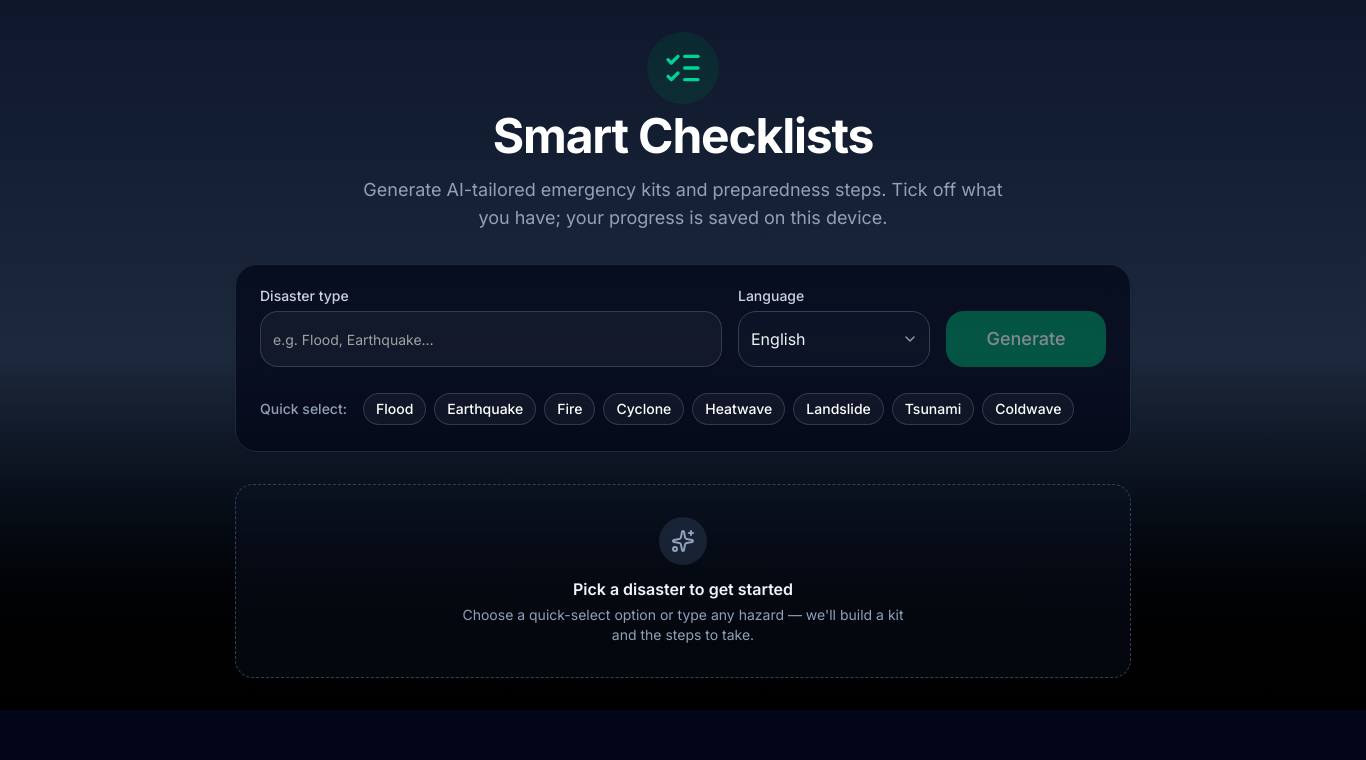
it: ChecklistView › shows an inline error with retry instead of alert()
Click the button "Cyclone": {"x": 644, "y": 409} [604,393,684,425]
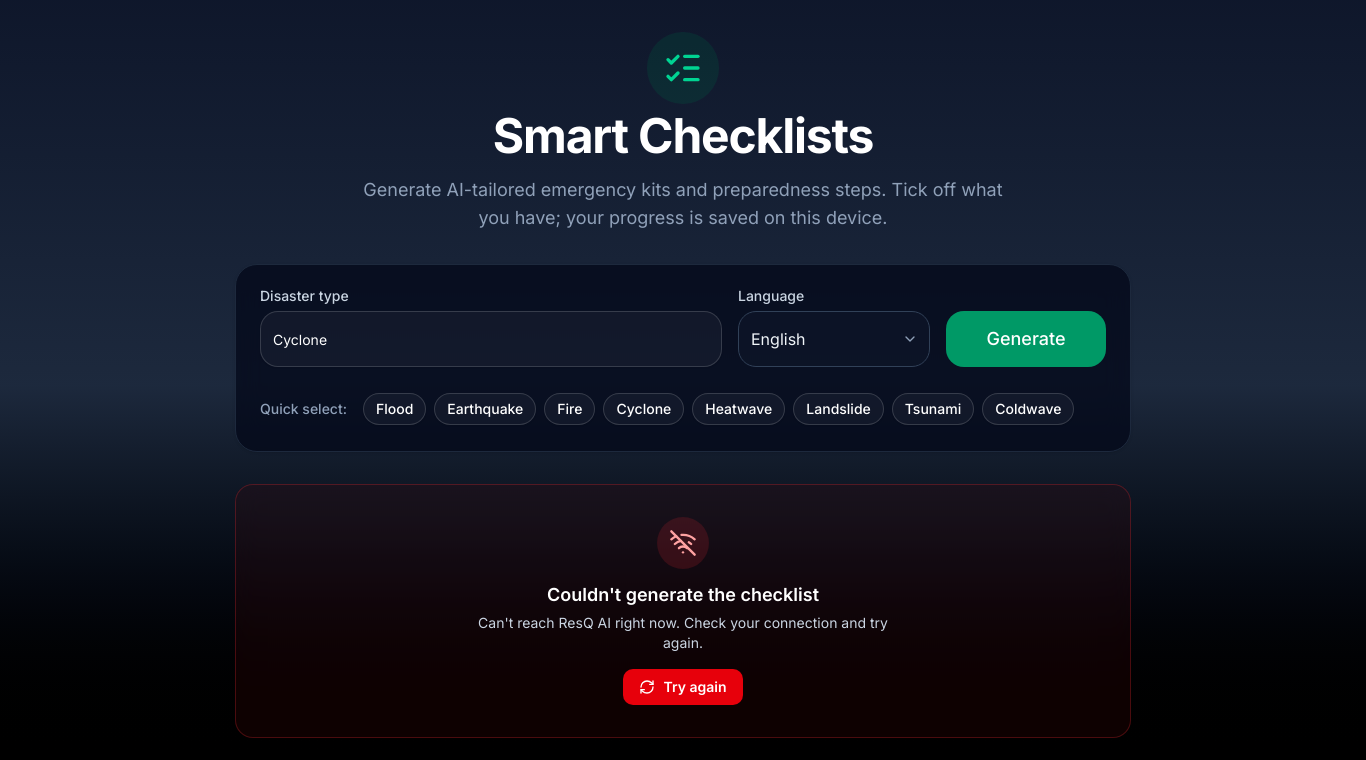
Check: the heading "Couldn't generate the checklist" is shown, box [547,584,819,605]
Check: the message shows "Can't reach ResQ AI", box [478,614,888,651]
Click the button "Try again": {"x": 683, "y": 687} [624,669,743,705]
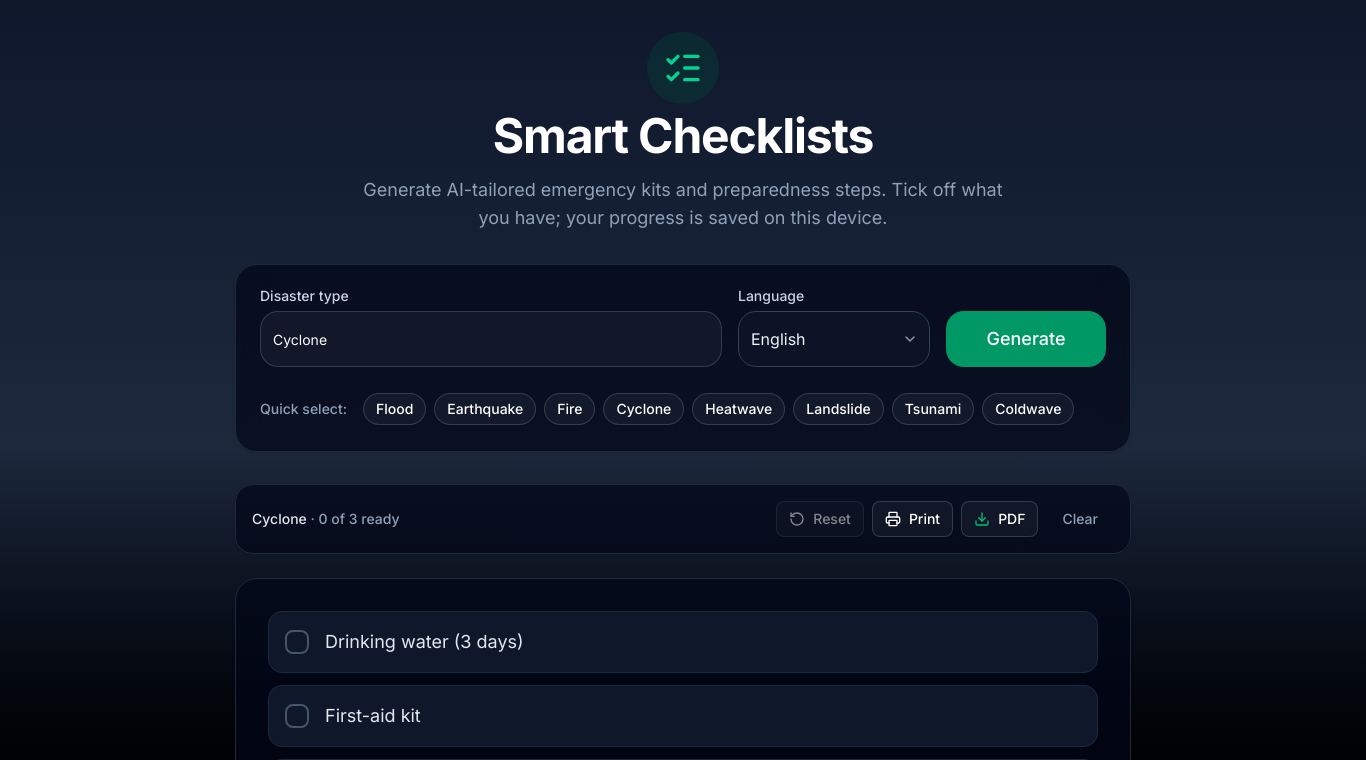
Check: the checkbox labelled "First-aid kit" is shown, box [268,685,1098,747]
